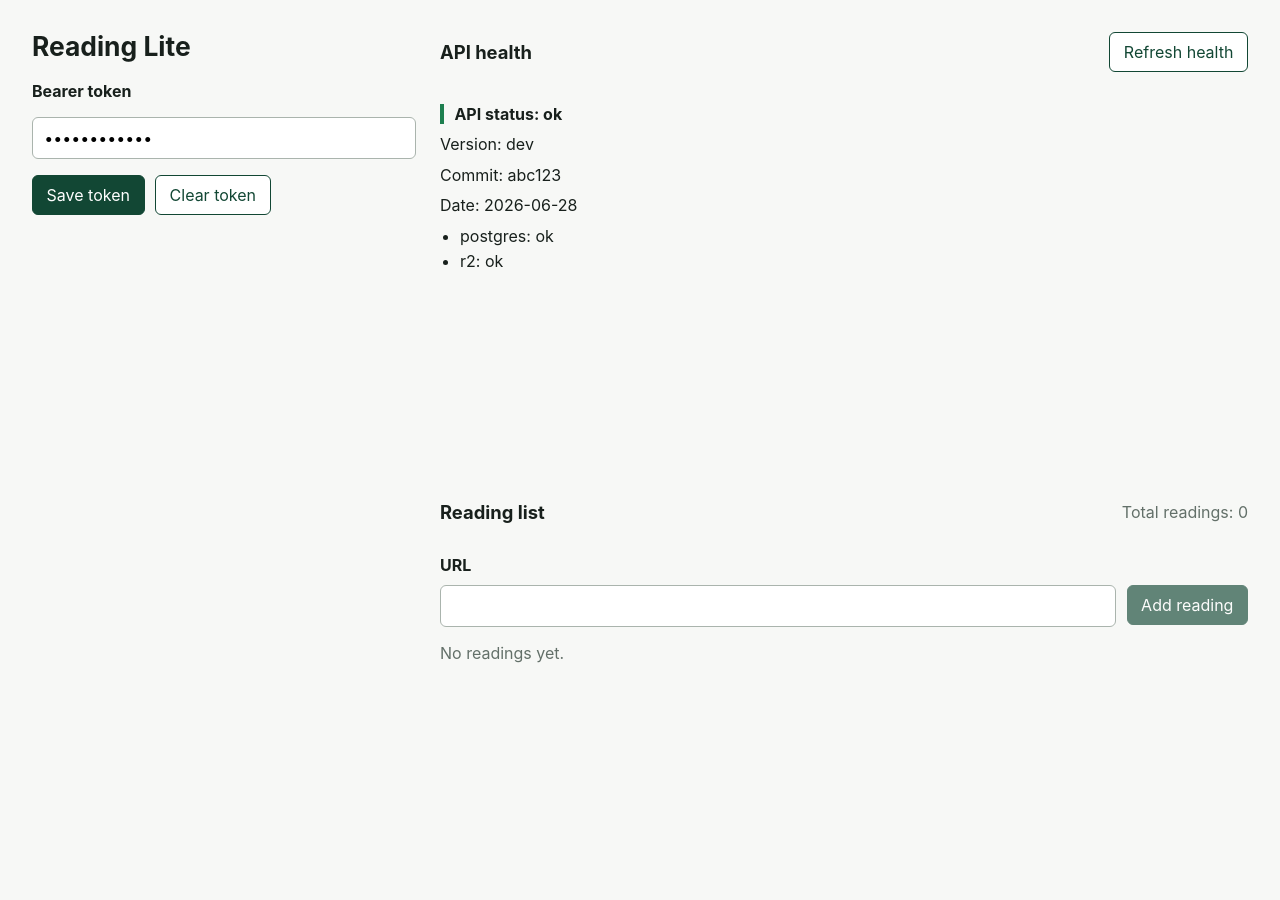
Test: App › loads health on mount and refreshes without sending Authorization
Expected: the text "API status: ok" is shown, [440,104,562,124]
Expected: the text "Version: dev" is shown, [440,134,534,154]
Click the button "Refresh health". click: (1179, 52)
box: [1109,32,1248,72]
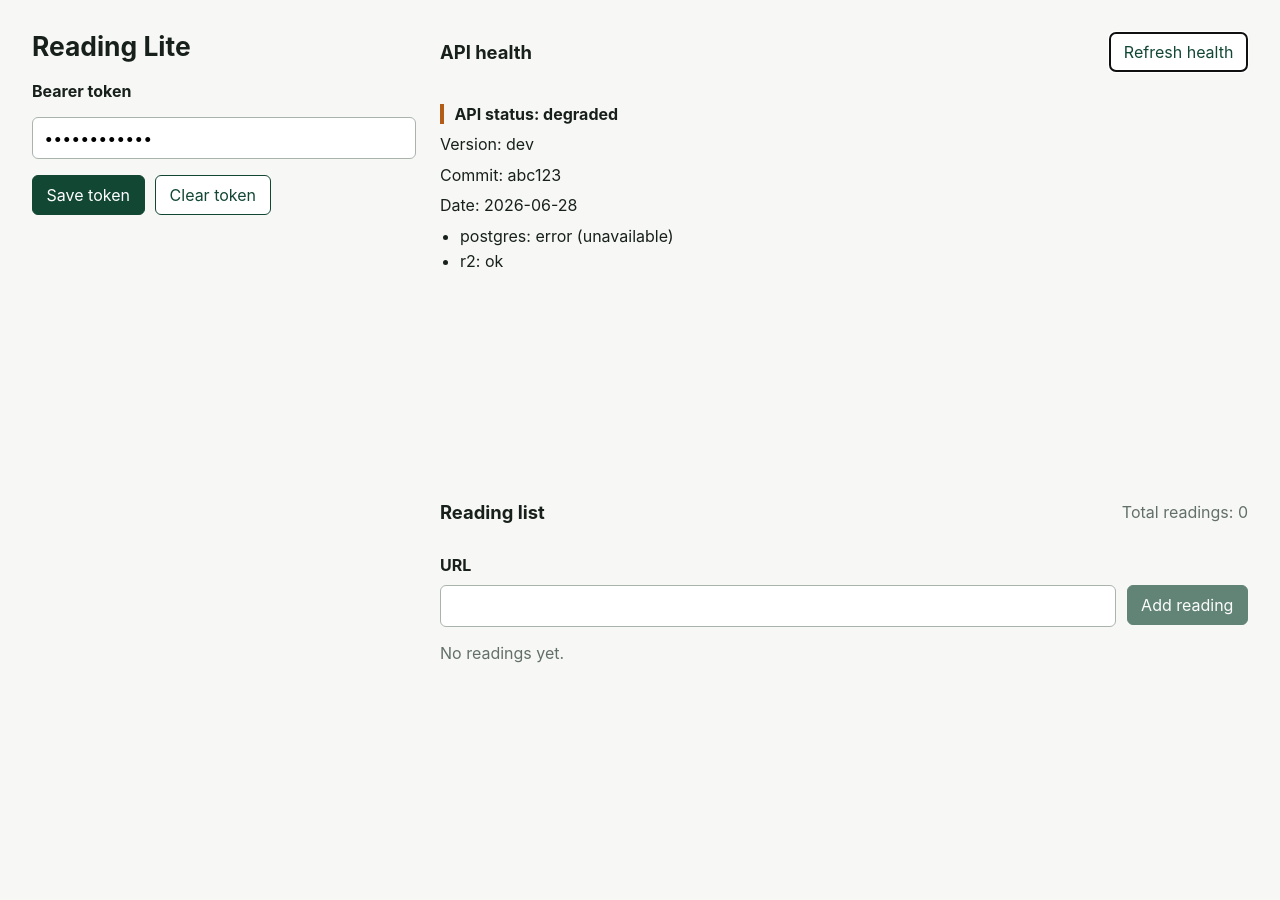
Result: the text "API status: degraded" is shown at [440,104,618,124]
